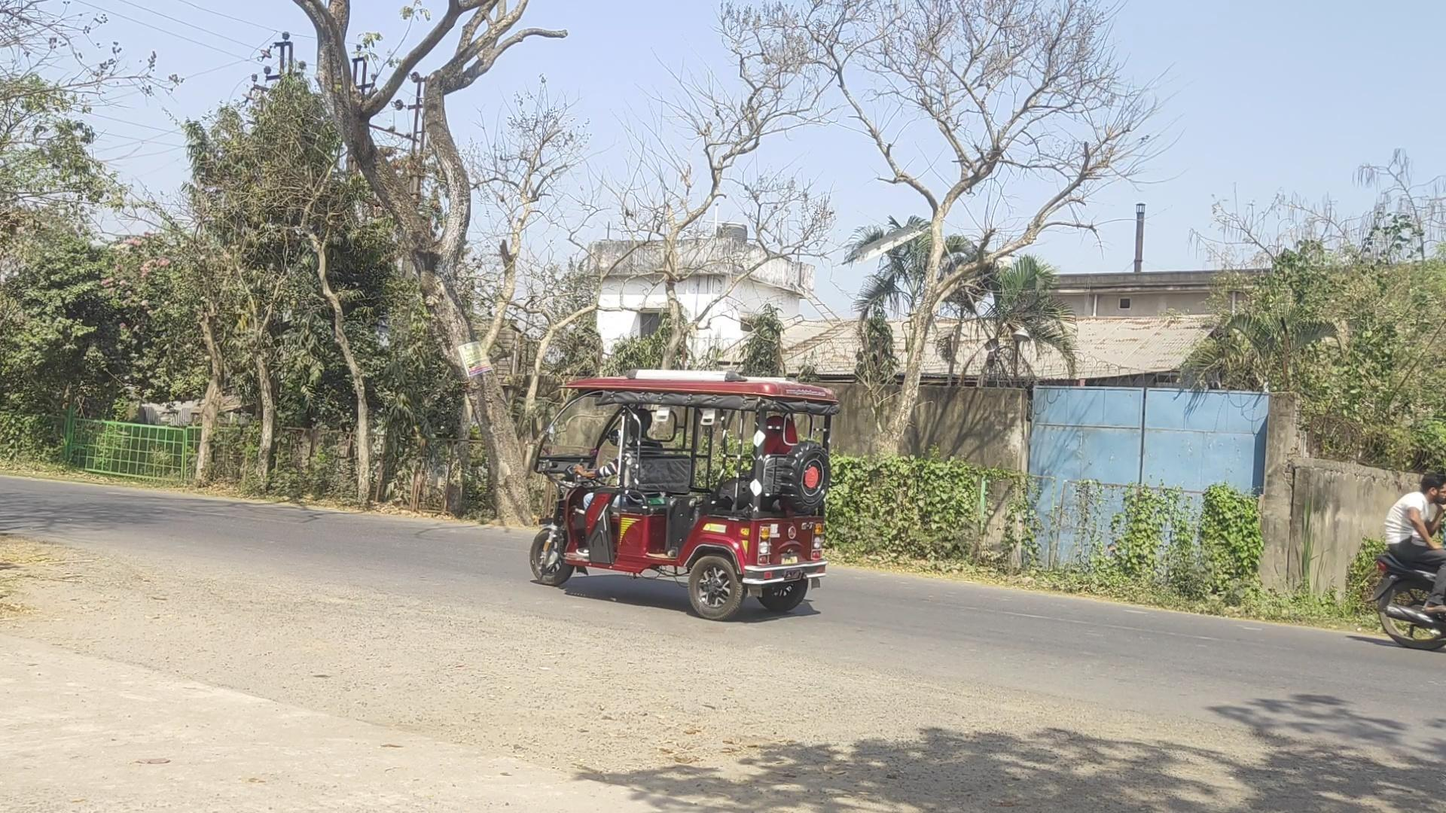Auto: (529, 369, 840, 621)
